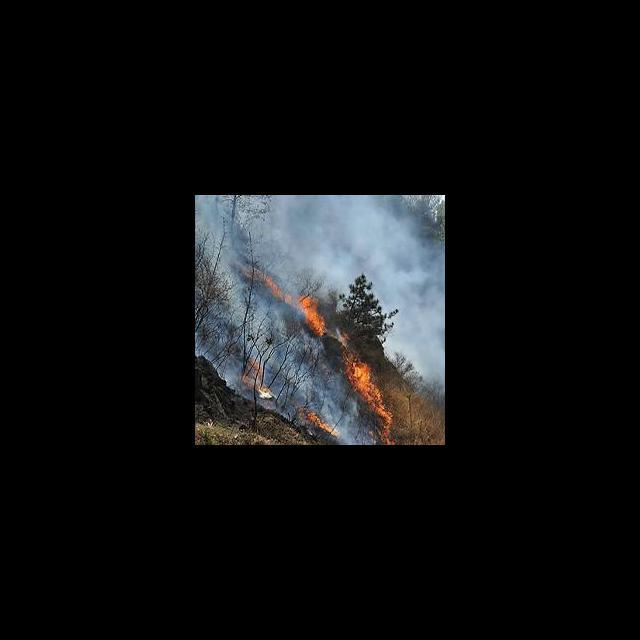Fire: (344, 355, 401, 442), (262, 270, 324, 338), (303, 408, 338, 439)
Smoke: (195, 198, 441, 267), (386, 270, 442, 364)
